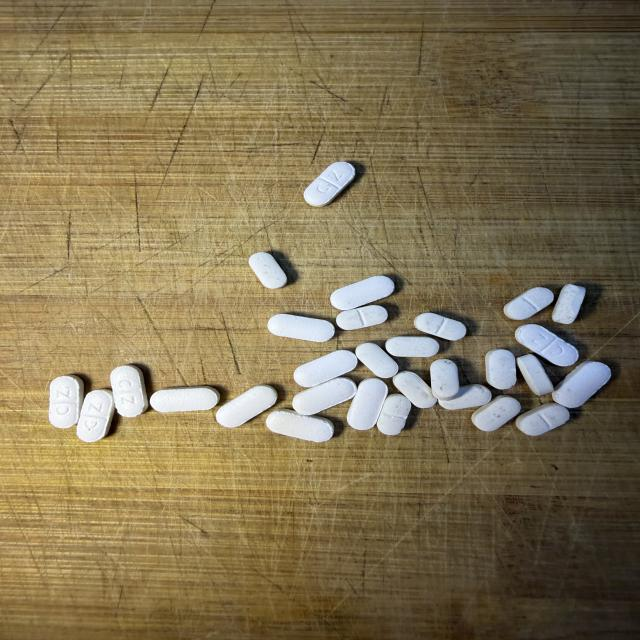pill: (552, 361, 611, 407), (515, 325, 578, 366), (216, 385, 277, 427), (292, 378, 356, 415), (294, 350, 357, 387), (304, 162, 355, 206), (266, 409, 334, 442), (330, 276, 394, 310), (347, 378, 387, 430), (77, 389, 115, 443), (111, 365, 148, 417), (268, 314, 334, 342), (49, 376, 84, 428), (472, 395, 520, 431), (150, 387, 219, 412), (516, 403, 569, 435), (393, 371, 437, 408), (504, 287, 553, 319), (517, 354, 553, 395), (356, 343, 398, 378), (414, 313, 466, 340), (377, 394, 411, 435), (249, 253, 286, 289), (552, 284, 585, 323), (438, 385, 491, 409), (336, 306, 387, 330), (486, 349, 516, 389), (430, 359, 459, 399), (385, 337, 439, 357)
